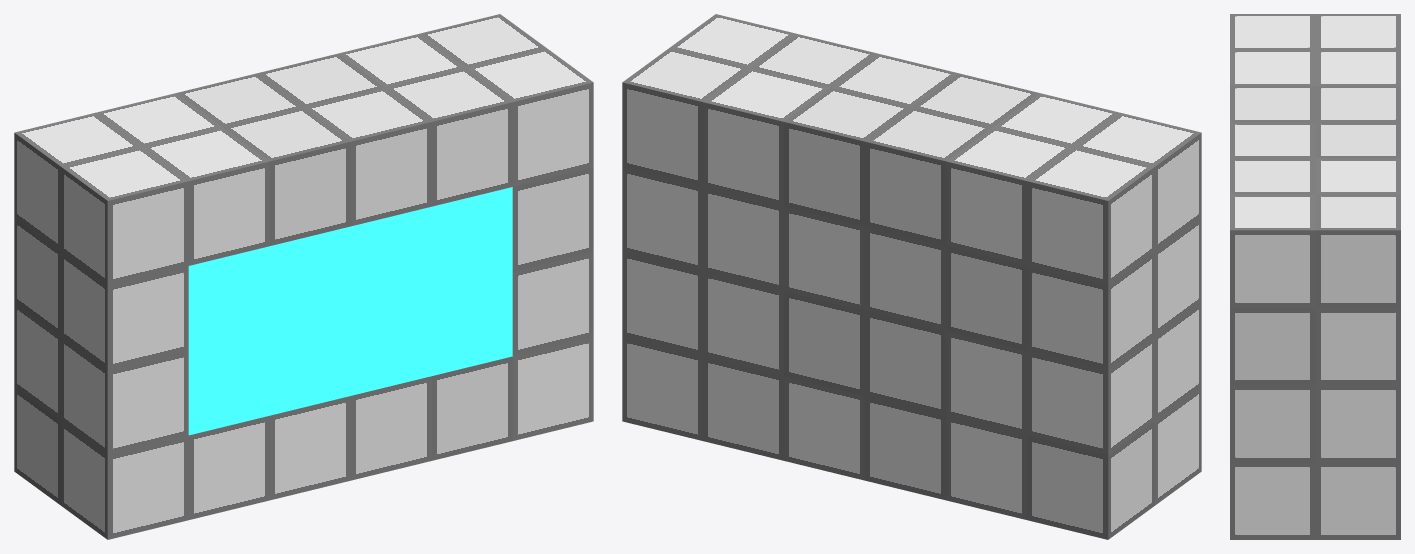
The model's file is exit_sign.glb.
The picture shows the model from 3 angles, left to right: view 1: azimuth 30°, elevation 25°; view 2: azimuth 150°, elevation 25°; view 3: azimuth 270°, elevation 25°; orthographic projection. The views are drawn at different scales.
Parts seen in each view (by area): view 1: exit_sign; view 2: exit_sign; view 3: exit_sign.
Part boxes in pixels (x1=…): exit_sign: x1=14, y1=14, x2=593, y2=539; exit_sign: x1=622, y1=14, x2=1201, y2=539; exit_sign: x1=1230, y1=14, x2=1400, y2=539.
Bounding box in the file's own units: 0.3 × 0.2 × 0.1.
2 materials, 1 textured.
